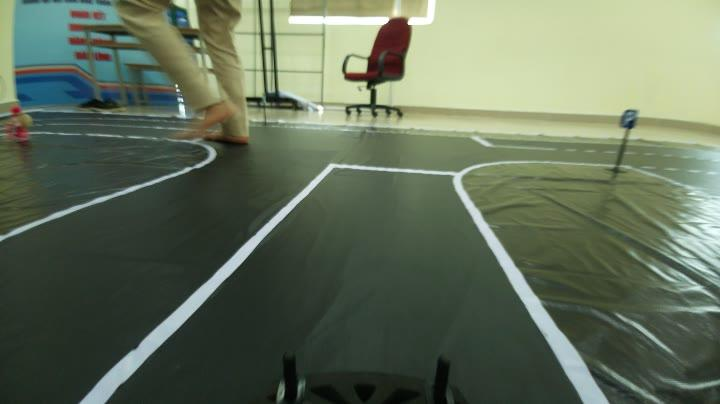parking: (620, 106, 644, 133)
